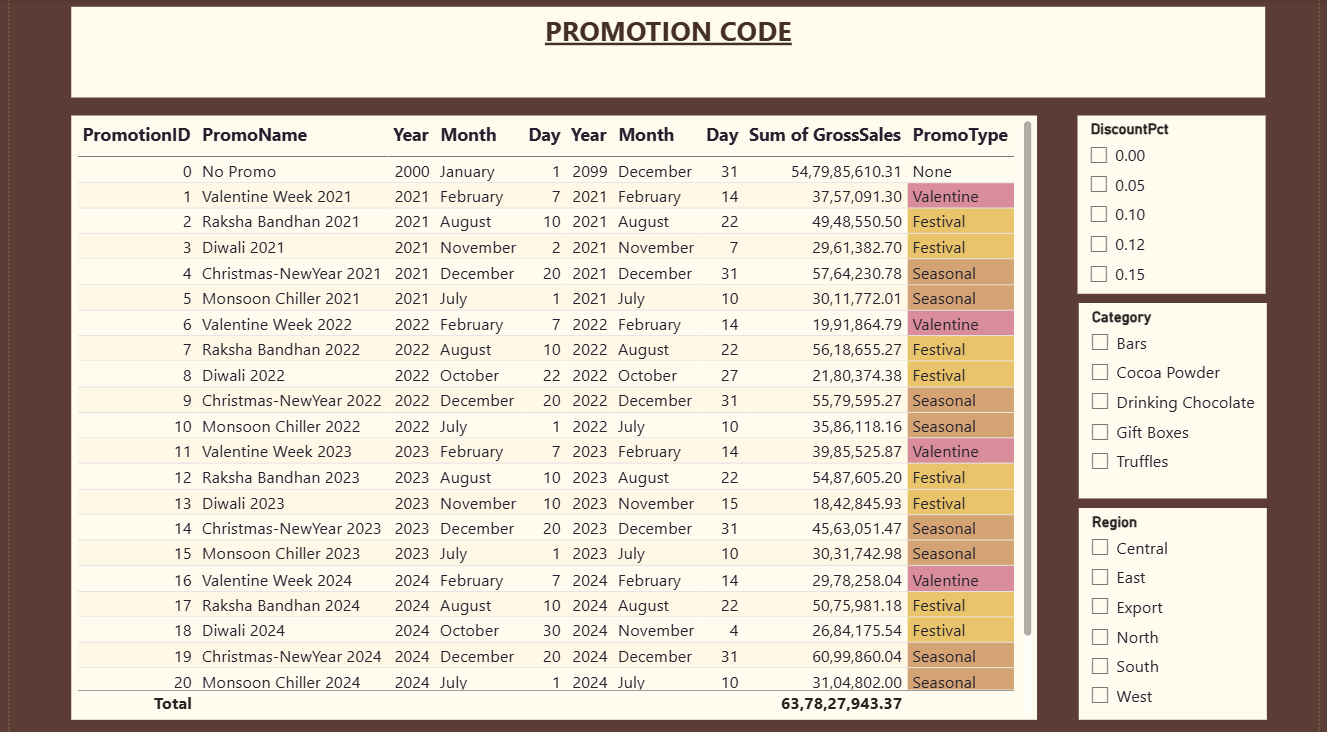

The dashboard page shown, as its layout file describes it:
{"tool":"powerbi","page":{"name":"Promotion Table","canvas":[1280,720],"ordinal":6},"visuals":[{"type":"textbox","box":[59.8,8.5,1168.3,89],"z":0},{"type":"tableEx","fields":{"Values":["DimPromotion.PromotionID","DimPromotion.PromoName","DimPromotion.StartDate.Variation.Date Hierarchy.Year","DimPromotion.StartDate.Variation.Date Hierarchy.Month","DimPromotion.StartDate.Variation.Date Hierarchy.Day","DimPromotion.EndDate.Variation.Date Hierarchy.Year","DimPromotion.EndDate.Variation.Date Hierarchy.Month","DimPromotion.EndDate.Variation.Date Hierarchy.Day","Sum(FactSales.GrossSales)","DimPromotion.PromoType"]},"box":[59.8,114.6,945.1,591.5],"z":1000},{"type":"slicer","fields":{"Values":["DimProduct.Category"]},"box":[1045.1,298.8,184.1,191.5],"z":2000},{"type":"slicer","fields":{"Values":["DimPromotion.DiscountPct"]},"box":[1043.9,114.6,184.1,174.4],"z":3000},{"type":"slicer","fields":{"Values":["DimGeography.Region"]},"box":[1045.1,498.8,184.1,207.3],"z":4000}]}

Visuals, with their boxes in screenshot pixels (x1, y1, x2, y2), scaled from the page's 1280x720 canvas onto the 1327x732 screenshot:
textbox: rect(62, 9, 1273, 99)
tableEx - DimPromotion.PromotionID x DimPromotion.PromoName: rect(62, 117, 1042, 718)
slicer - DimProduct.Category: rect(1083, 304, 1274, 498)
slicer - DimPromotion.DiscountPct: rect(1082, 117, 1273, 294)
slicer - DimGeography.Region: rect(1083, 507, 1274, 718)
